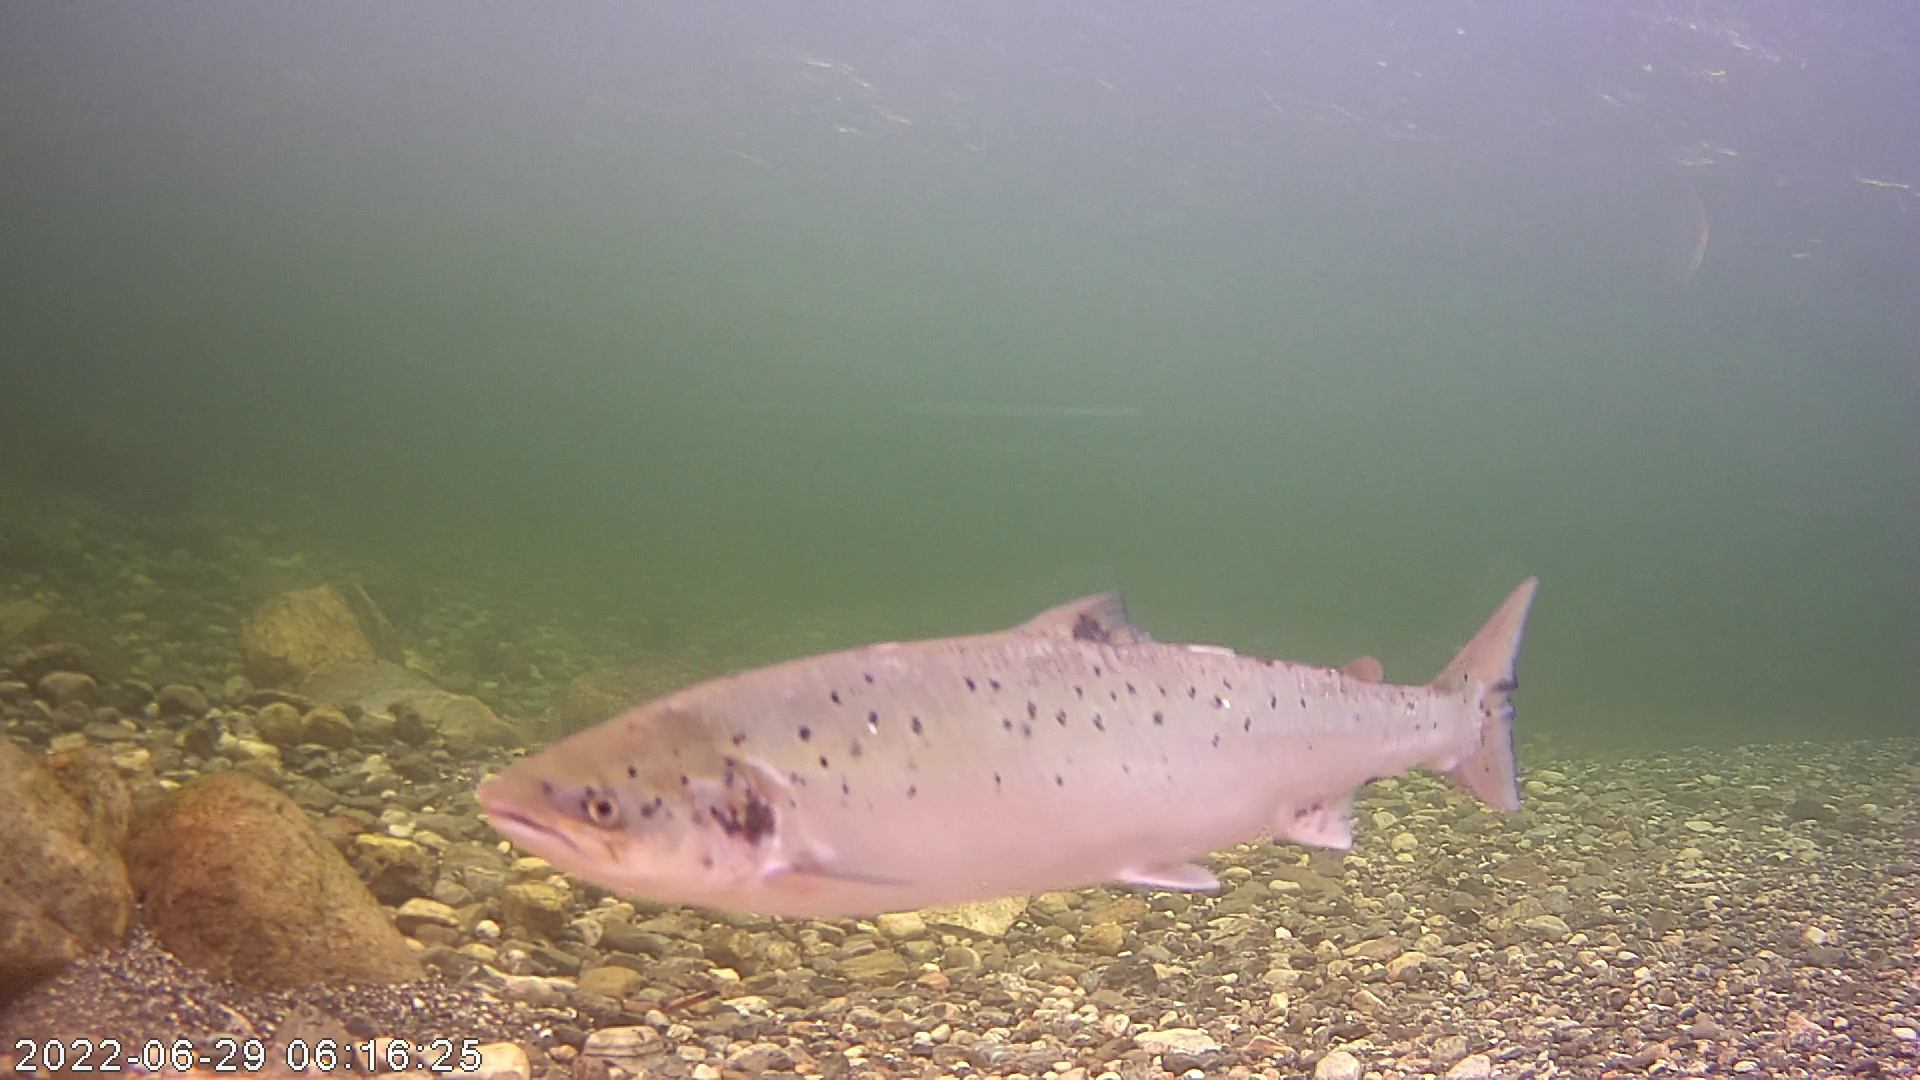salmon: (495, 479, 1524, 926)
